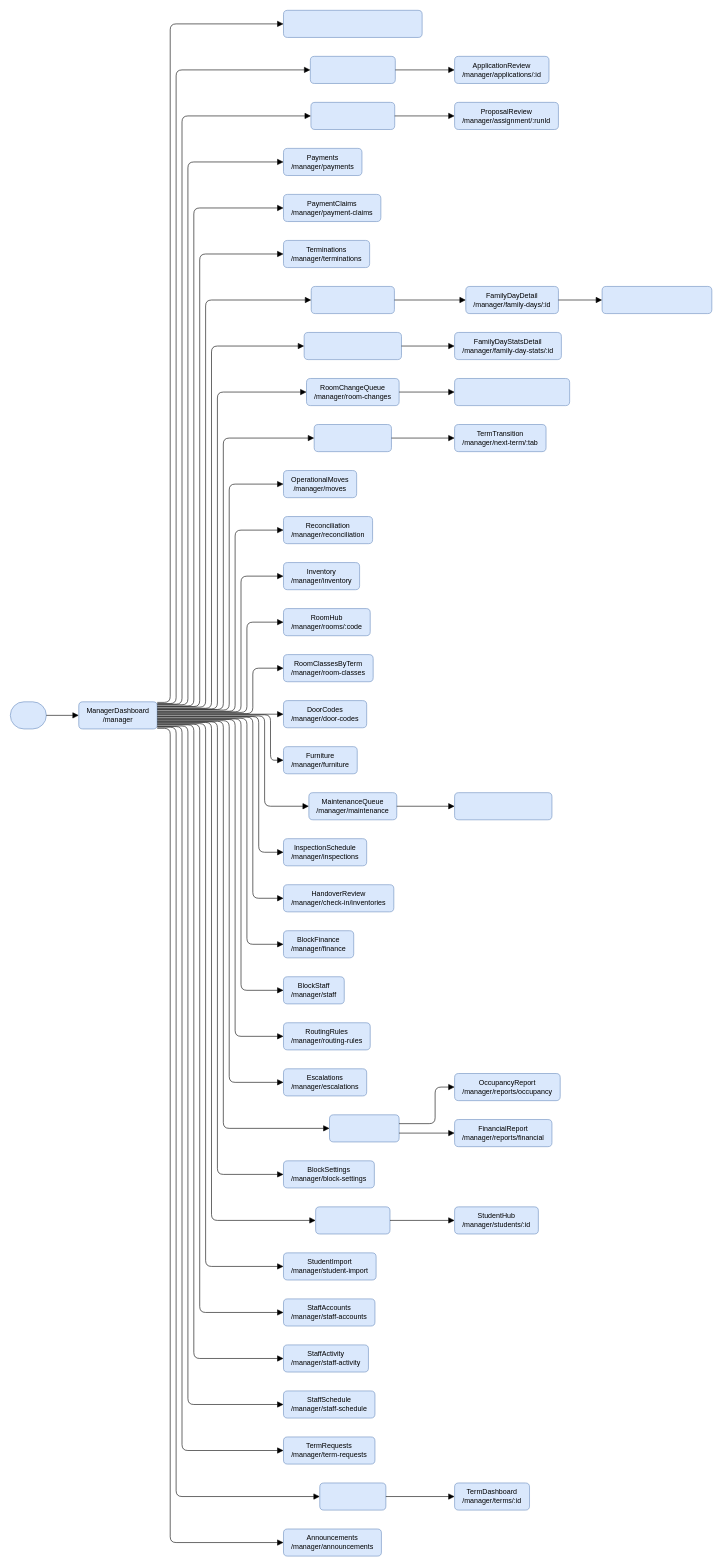
Some shapes in this 722 by 1566 pixel diagram are drawn without their labels. Each missing label, with the box of its shape:
ApplicationQueue /manager/applications: (310, 56, 395, 83)
AssignmentRuns /manager/assignment: (310, 102, 395, 130)
BlockReports /manager/reports: (329, 1114, 399, 1142)
CheckOutReviews /manager/approvals/check-out-charges: (283, 10, 422, 37)
FamilyDays /manager/family-days: (311, 286, 394, 314)
FamilyDayStats /manager/family-day-stats: (304, 332, 401, 360)
MaintenanceDetail /manager/maintenance/:id: (454, 792, 552, 820)
SignIn /signin: (10, 701, 46, 729)
Students /manager/students: (315, 1206, 390, 1234)
SwapRequests /manager/room-changes/swaps: (454, 378, 570, 406)
TermDashboard /manager/terms: (319, 1482, 386, 1510)
TermTransition /manager/next-term: (314, 424, 391, 452)
VisitorDesk /manager/family-days/:id/desk: (602, 286, 712, 314)
